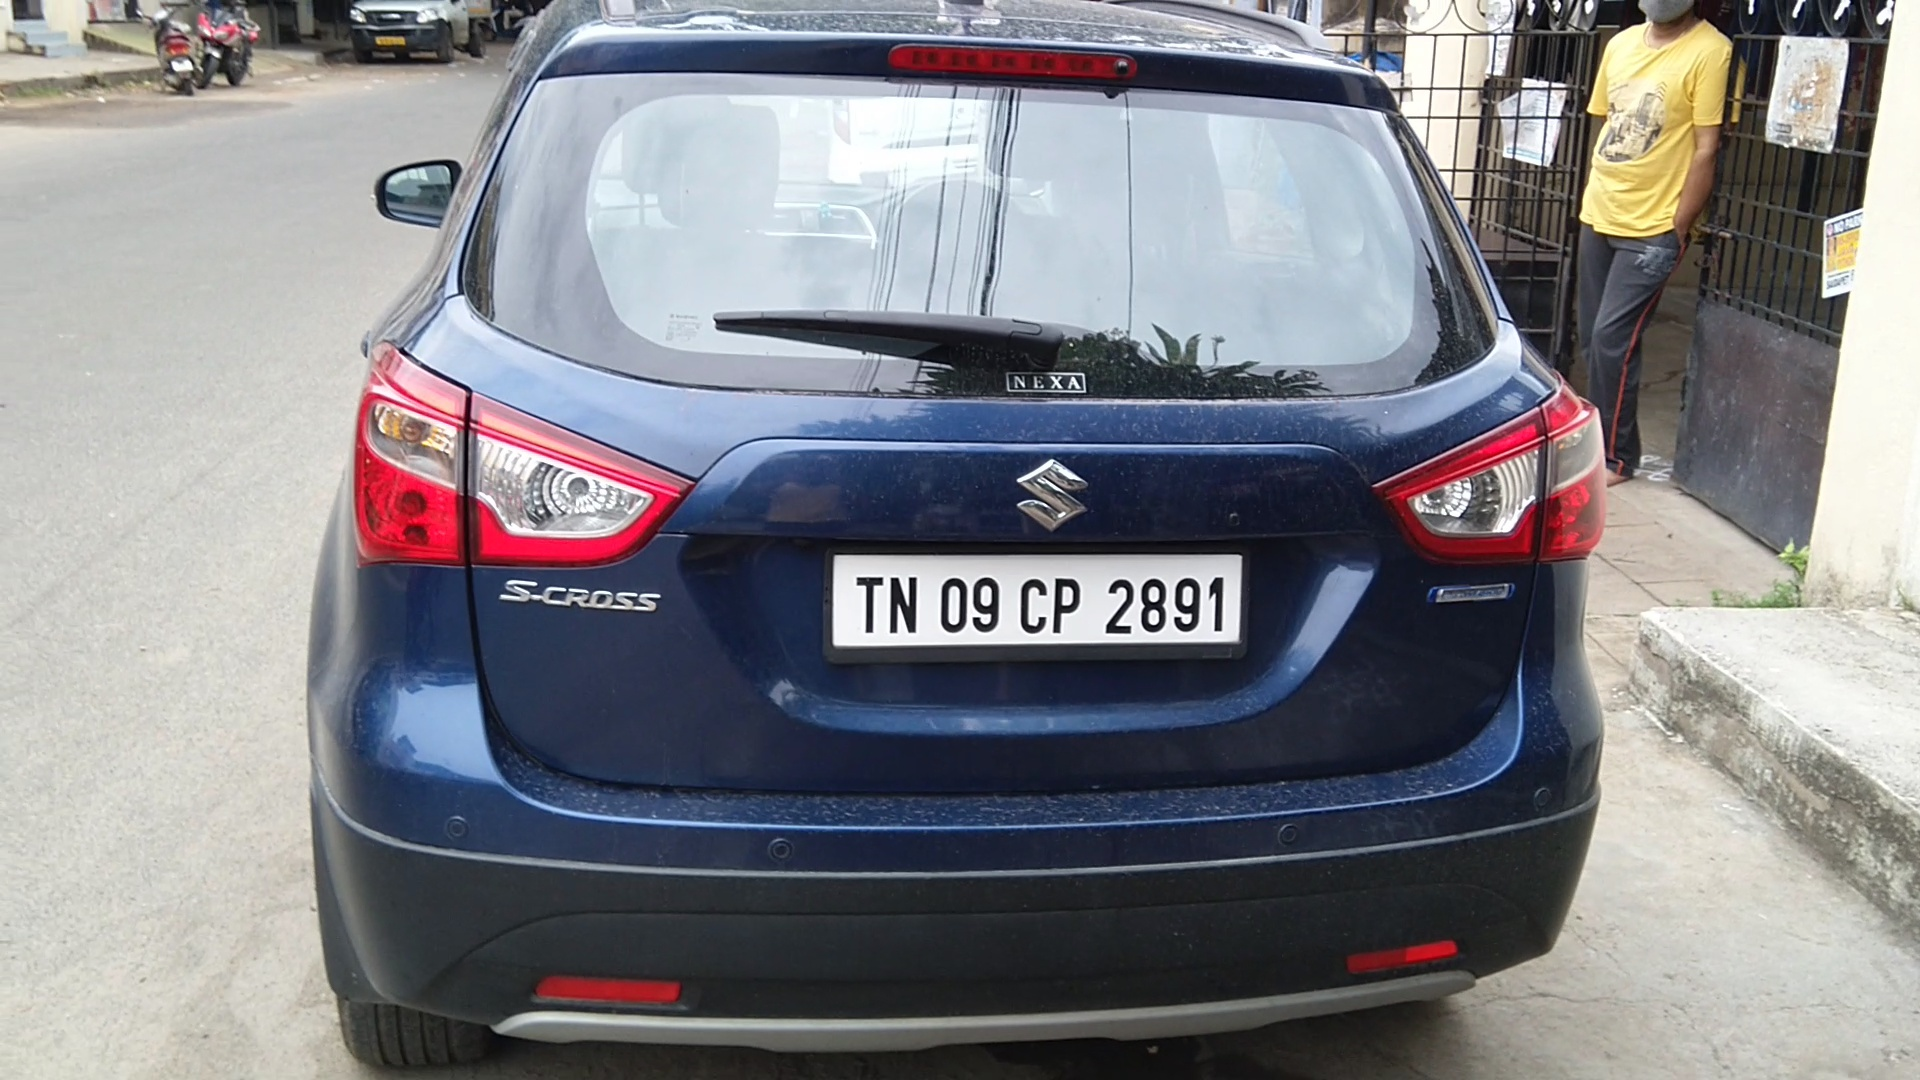rear_camera: (1112, 49, 1139, 84)
shvs: (1414, 566, 1535, 616)
